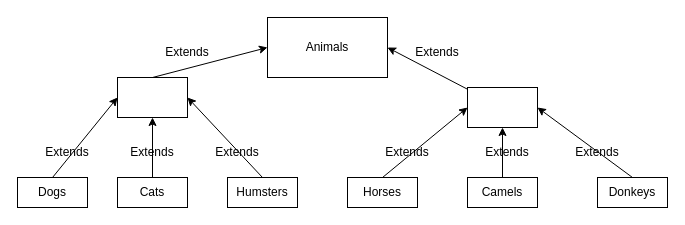
Image size: 685x225. Some labels were removed from this diagram. The box of each missing label's shape, as (x1, y1, x2, y2) in pixels:
Pack Animals: (466, 86, 538, 128)
Pets: (116, 76, 188, 118)
